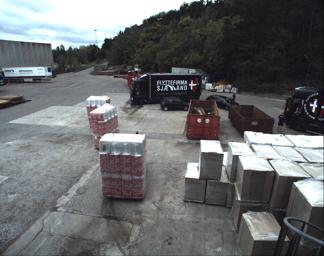rockwool_batts: (97, 131, 146, 197), (89, 105, 118, 144), (86, 94, 110, 127)
